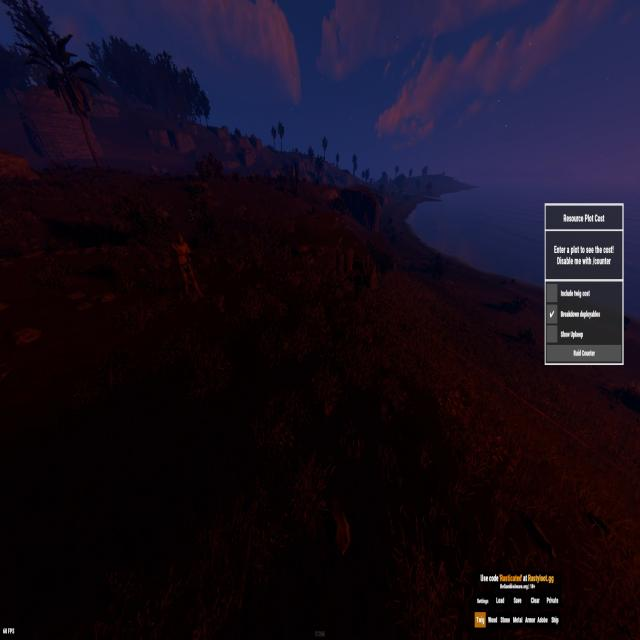Player: (170, 234, 204, 300), (353, 272, 362, 302)
